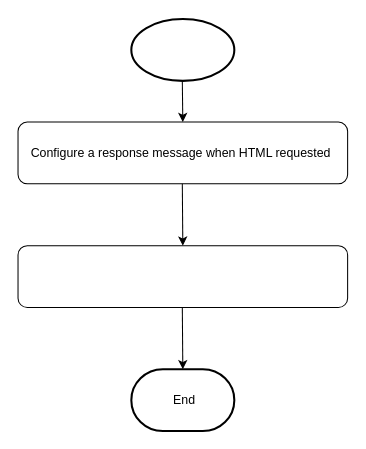
The diagram is 366 pixels wide and 449 high, and some of its shapes have lost their labels. The shapes that lost their labels are listed below. From the top down, each one's box as (x1, y1, x2, y2) in pixels, then its label:
(130, 18, 235, 81): Start
(17, 245, 348, 307): Configure a response message when JSON requested
